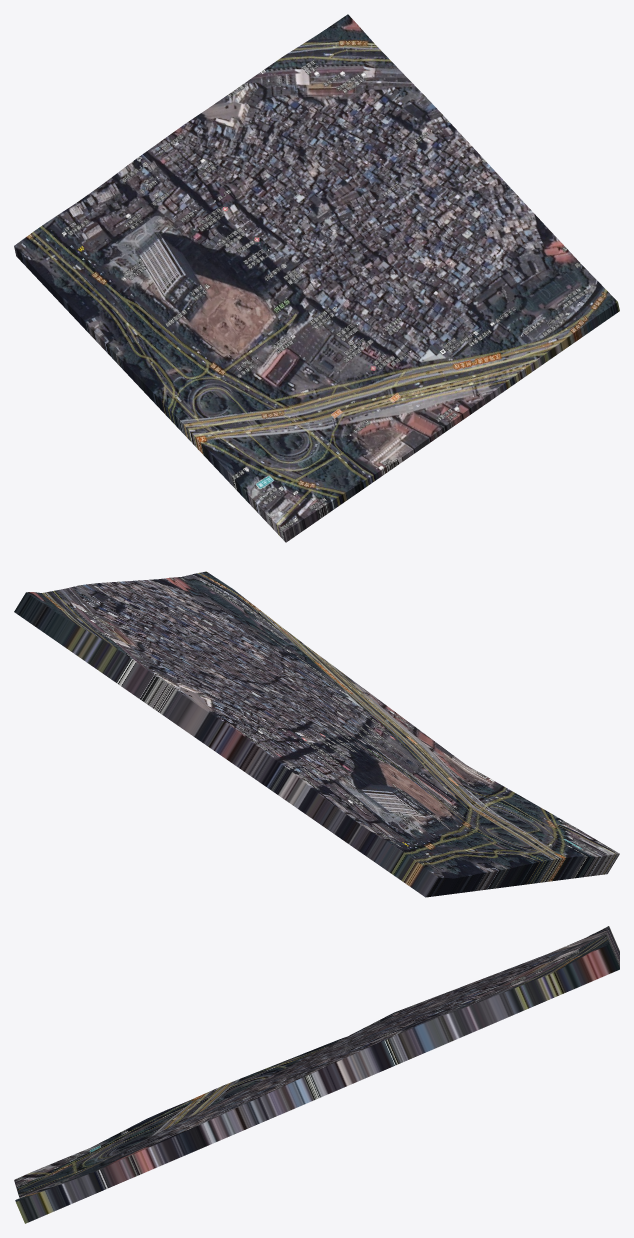
3 renders of one model, top to bottom at view 1: azimuth 30°, elevation 25°; view 2: azimuth 150°, elevation 25°; view 3: azimuth 270°, elevation 25°, orthographic. The views are drawn at different scales.
Parts seen in each view (by area): view 1: 0_3_10; view 2: 0_3_10; view 3: 0_3_10.
Part boxes in pixels (x1,y1,x2,y2): 0_3_10: [14, 14, 619, 542]; 0_3_10: [14, 571, 619, 897]; 0_3_10: [14, 926, 619, 1223].
Size of the model in its own units: 601 by 449 by 552.
Materials: 1 (1 with a texture image).
